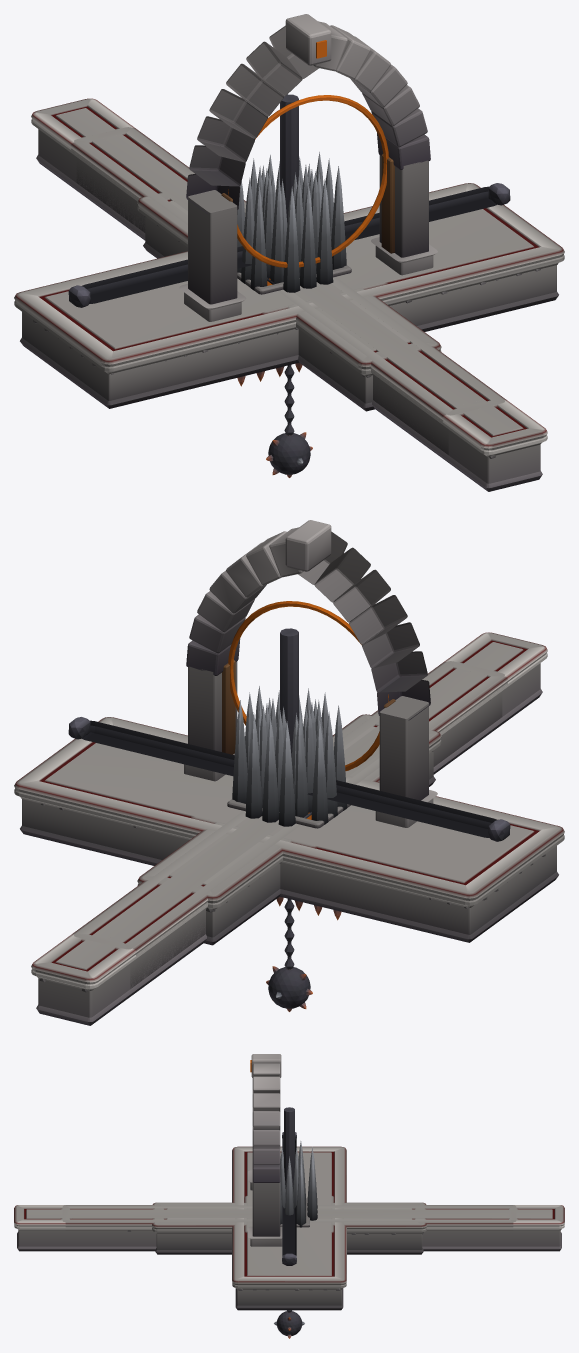
Rendered from fortress-5-ByXBqcA6.glb.
The picture shows the model from 3 angles, top to bottom: view 1: azimuth 30°, elevation 25°; view 2: azimuth 150°, elevation 25°; view 3: azimuth 270°, elevation 25°; orthographic projection. The views are drawn at different scales.
Visible parts, largest first — view 1: block_28x2x10#0, portal_#0, block_4x2x40_grate#0, block_4x2x48_grate#0, block_5x2x24#0, spikes_6x6x3#0, spikes_3x6x5#0, mount_12.7#0, blade_3x12x1#0, press_7x6x4#0, spikes_3x6x2.5#0; view 2: block_28x2x10#0, portal_#0, block_4x2x40_grate#0, block_4x2x48_grate#0, mount_12.7#0, block_5x2x24#0, spikes_6x6x3#0, spikes_3x6x5#0, press_7x6x4#0, blade_3x12x1#0; view 3: block_28x2x10#0, block_4x2x48_grate#0, block_4x2x40_grate#0, block_5x2x24#0, portal_#0, spikes_6x6x3#0, mount_12.7#0, press_7x6x4#0, spikes_3x6x5#0, blade_3x12x1#0, spikes_3x6x2.5#0.
Part boxes in pixels (x1,y1,x2,y2): block_28x2x10#0: [14, 183, 564, 408]; portal_#0: [179, 14, 437, 321]; block_4x2x40_grate#0: [71, 127, 506, 454]; block_4x2x48_grate#0: [31, 98, 547, 491]; block_5x2x24#0: [137, 192, 441, 411]; spikes_6x6x3#0: [237, 152, 346, 290]; spikes_3x6x5#0: [250, 154, 333, 292]; mount_12.7#0: [68, 183, 510, 307]; blade_3x12x1#0: [266, 365, 312, 477]; press_7x6x4#0: [237, 94, 302, 386]; spikes_3x6x2.5#0: [262, 160, 313, 278]; block_28x2x10#0: [14, 717, 564, 942]; portal_#0: [184, 520, 437, 827]; block_4x2x40_grate#0: [72, 661, 507, 988]; block_4x2x48_grate#0: [31, 632, 547, 1025]; mount_12.7#0: [68, 717, 510, 841]; block_5x2x24#0: [137, 714, 441, 945]; spikes_6x6x3#0: [232, 686, 347, 824]; spikes_3x6x5#0: [245, 688, 328, 826]; press_7x6x4#0: [276, 628, 341, 920]; blade_3x12x1#0: [266, 898, 312, 1011]; block_28x2x10#0: [232, 1146, 346, 1310]; block_4x2x48_grate#0: [14, 1205, 564, 1251]; block_4x2x40_grate#0: [61, 1205, 517, 1231]; block_5x2x24#0: [152, 1202, 426, 1254]; portal_#0: [247, 1054, 282, 1246]; spikes_6x6x3#0: [280, 1141, 305, 1227]; mount_12.7#0: [282, 1132, 296, 1265]; press_7x6x4#0: [284, 1107, 294, 1188]; spikes_3x6x5#0: [286, 1147, 317, 1220]; blade_3x12x1#0: [274, 1310, 304, 1338]; spikes_3x6x2.5#0: [280, 1147, 298, 1208].
Bounding box in the file's own units: 28 × 27.07 × 48.
